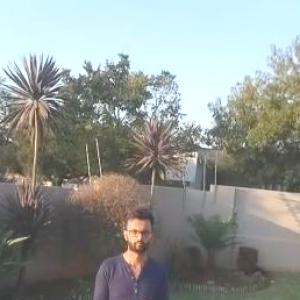follow: (84, 199, 171, 299)
